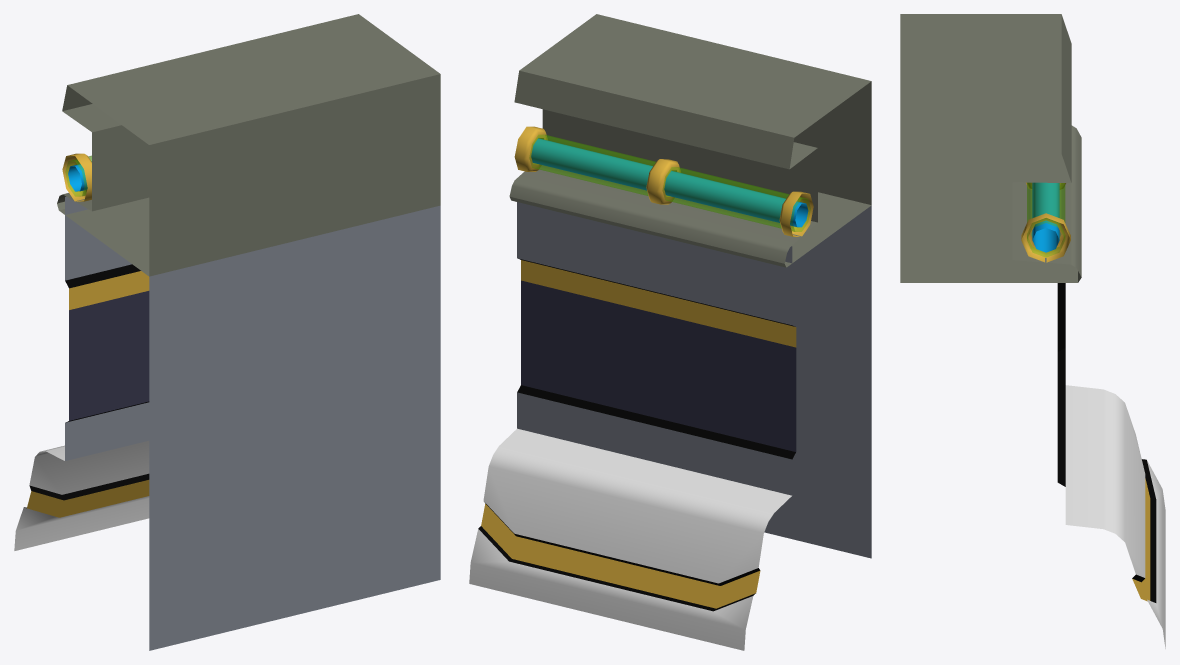
Rendered from Half_Wall_withoutdetails.fbx.
3 views of the same model, side by side, from view 1: azimuth 30°, elevation 25°; view 2: azimuth 150°, elevation 25°; view 3: azimuth 270°, elevation 25° (orthographic). The views are drawn at different scales.
Parts seen in each view (by area): view 1: Half_Wall_withoutdetails_; view 2: Half_Wall_withoutdetails_; view 3: Half_Wall_withoutdetails_.
Part boxes in pixels (x1,y1,x2,y2): Half_Wall_withoutdetails_: (14, 14, 440, 650); Half_Wall_withoutdetails_: (469, 14, 871, 650); Half_Wall_withoutdetails_: (900, 14, 1165, 648).
Bounding box in the file's own units: 411 × 682 × 330.
